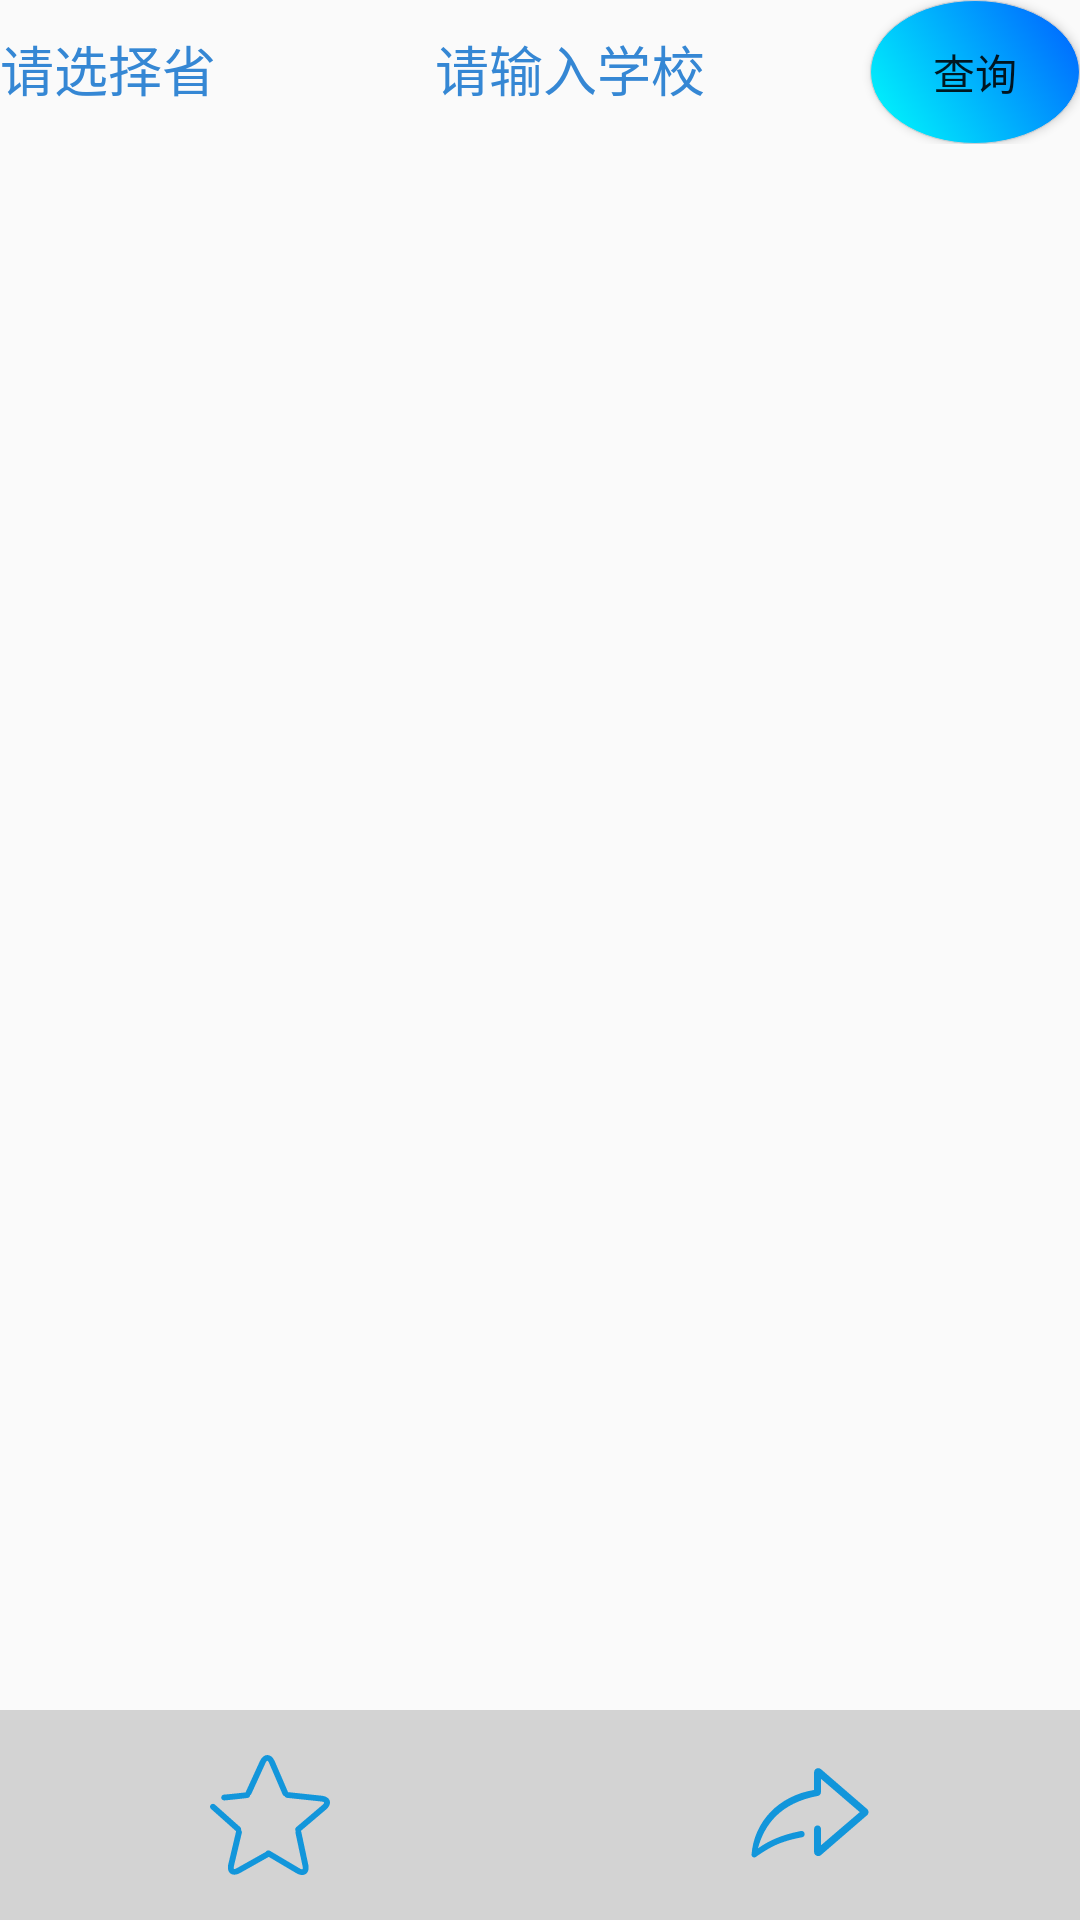

Icons on this 1080px×1920px Android screen, each with the point to tap as (x=x, y=y):
favorite: (x=270, y=1815)
